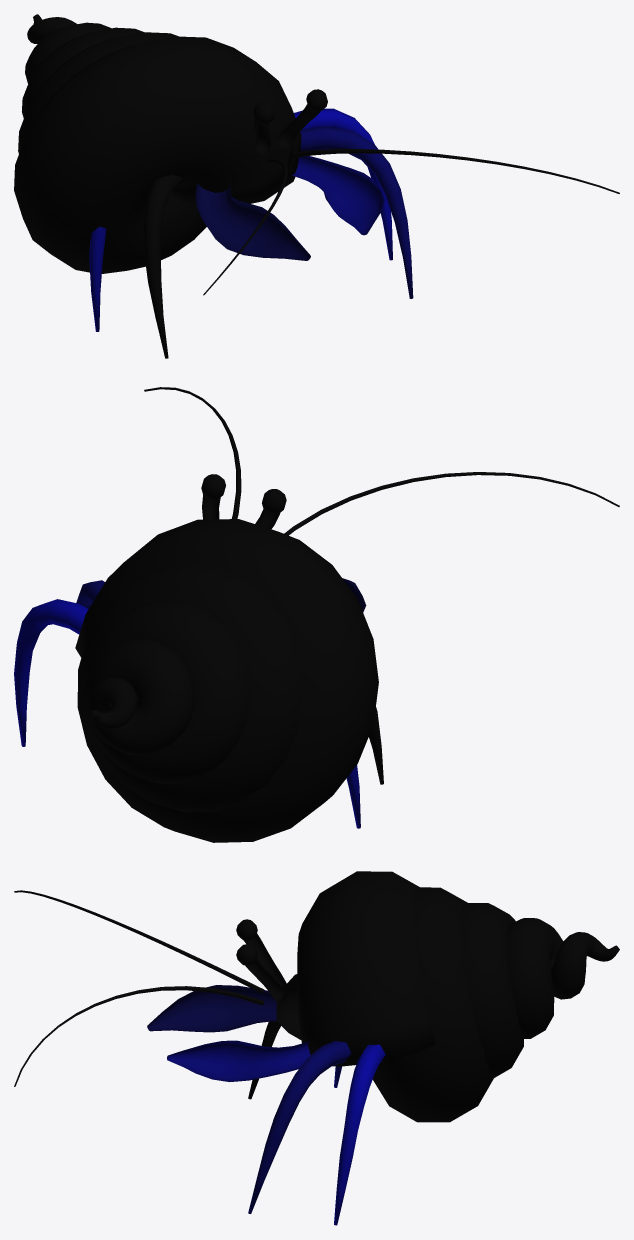
The model's file is blue-leg-hermit.glb.
3 views of the same model, one above another, from view 1: azimuth 30°, elevation 25°; view 2: azimuth 150°, elevation 25°; view 3: azimuth 270°, elevation 25° (orthographic). The views are drawn at different scales.
Visible parts, largest first — view 1: hermit_body, hermit_legClawL, hermit_legClawR, hermit_leg0R, hermit_leg0L, hermit_leg1R, hermit_antennaR, hermit_leg1L, hermit_tentacleR, hermit_antennaL; view 2: hermit_body, hermit_leg1R, hermit_antennaL, hermit_antennaR; view 3: hermit_body, hermit_legClawL, hermit_legClawR, hermit_leg0R, hermit_leg1R, hermit_antennaR, hermit_antennaL, hermit_foot, hermit_tentacleR, hermit_tentacleL, hermit_leg0L.
Boxes of the visible parts, x1=… form: hermit_body: x1=14, y1=14, x2=301, y2=273; hermit_legClawL: x1=195, y1=183, x2=310, y2=260; hermit_legClawR: x1=291, y1=156, x2=384, y2=235; hermit_leg0R: x1=300, y1=126, x2=413, y2=298; hermit_leg0L: x1=143, y1=175, x2=185, y2=358; hermit_leg1R: x1=294, y1=108, x2=392, y2=260; hermit_antennaR: x1=292, y1=149, x2=619, y2=193; hermit_leg1L: x1=89, y1=226, x2=106, y2=331; hermit_tentacleR: x1=276, y1=104, x2=320, y2=149; hermit_antennaL: x1=203, y1=158, x2=288, y2=295; hermit_body: x1=75, y1=519, x2=378, y2=842; hermit_leg1R: x1=14, y1=599, x2=88, y2=746; hermit_antennaL: x1=284, y1=472, x2=619, y2=535; hermit_antennaR: x1=144, y1=387, x2=241, y2=518; hermit_body: x1=297, y1=871, x2=619, y2=1122; hermit_legClawL: x1=147, y1=985, x2=276, y2=1032; hermit_legClawR: x1=167, y1=1040, x2=310, y2=1081; hermit_leg0R: x1=248, y1=1040, x2=351, y2=1213; hermit_leg1R: x1=334, y1=1044, x2=385, y2=1225; hermit_antennaR: x1=14, y1=986, x2=264, y2=1086; hermit_antennaL: x1=14, y1=890, x2=264, y2=993; hermit_foot: x1=276, y1=984, x2=303, y2=1040; hermit_tentacleR: x1=245, y1=959, x2=287, y2=1002; hermit_tentacleL: x1=244, y1=933, x2=287, y2=988; hermit_leg0L: x1=248, y1=974, x2=297, y2=1099.
Size of the model in its own units: 1.43 by 0.8265 by 1.88.
